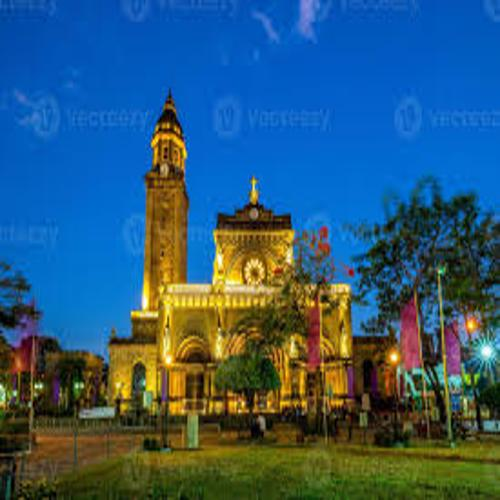Manila Cathedral Church: (80, 69, 404, 452)
